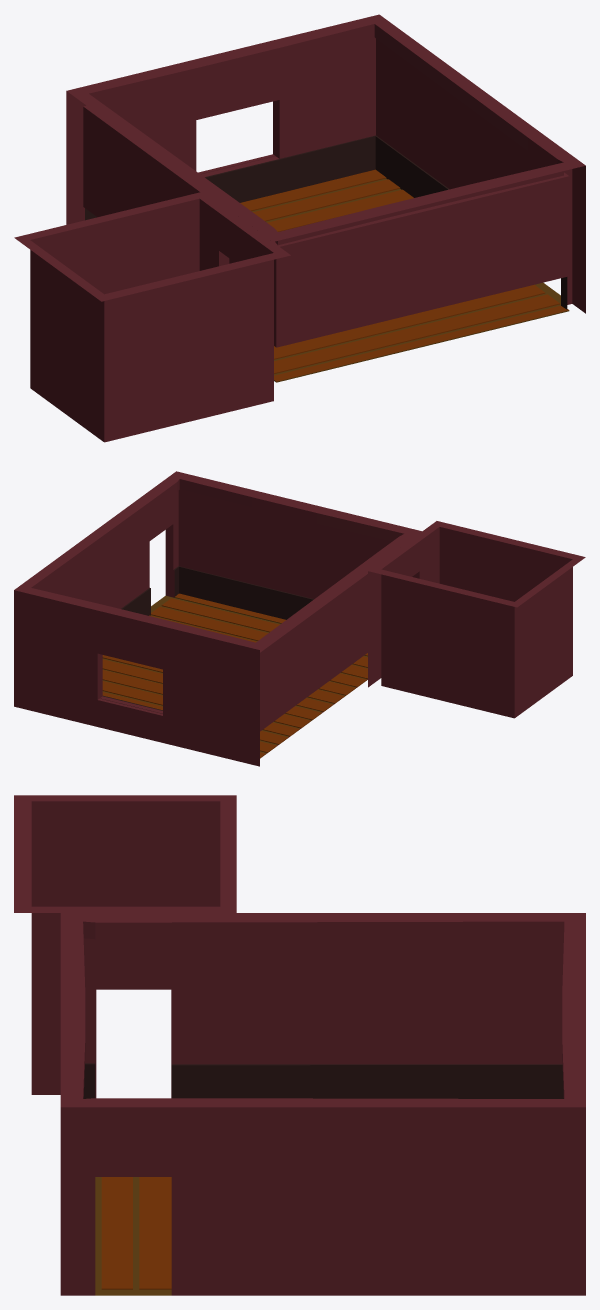
The model's file is ParedesCuarto.fbx.
3 views of the same model, one above another, from view 1: azimuth 30°, elevation 25°; view 2: azimuth 150°, elevation 25°; view 3: azimuth 270°, elevation 25° (orthographic). The views are drawn at different scales.
Parts seen in each view (by area): view 1: Plane.004; view 2: Plane.004; view 3: Plane.004.
Part boxes in pixels (x1=…): Plane.004: x1=14, y1=14, x2=585, y2=442; Plane.004: x1=14, y1=471, x2=585, y2=766; Plane.004: x1=14, y1=795, x2=585, y2=1295.
Size of the model in its own units: 1616 by 455 by 1252.
